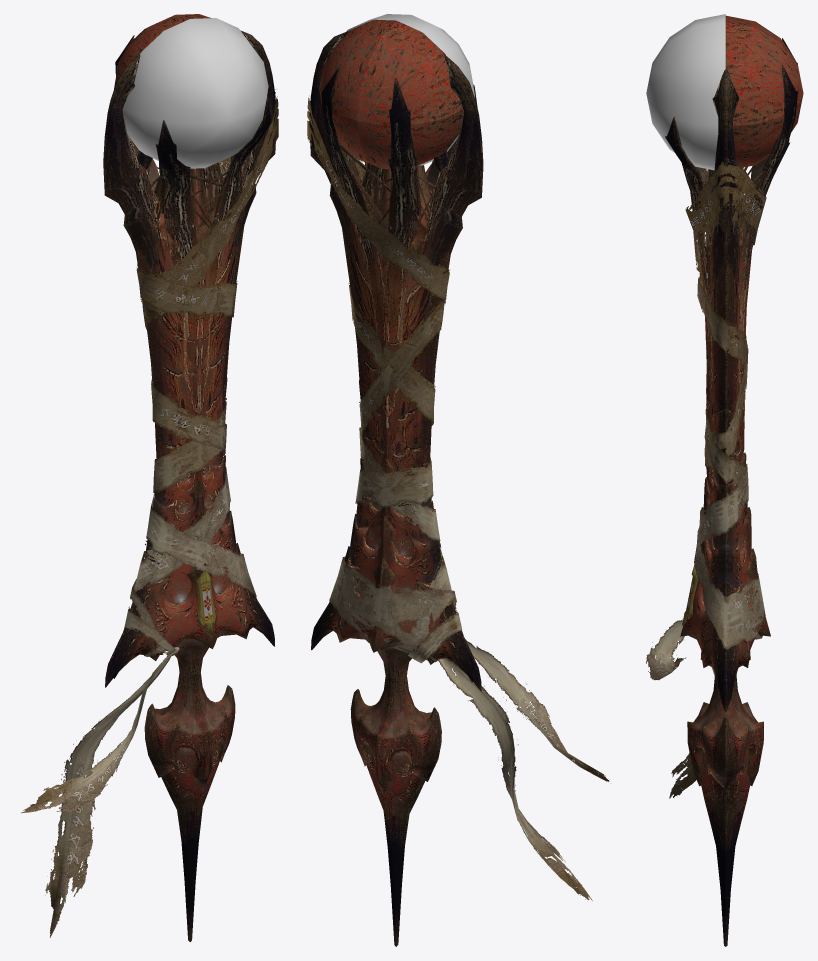
Rendered from caxe025.obj.
The picture shows the model from 3 angles, left to right: view 1: azimuth 30°, elevation 25°; view 2: azimuth 150°, elevation 25°; view 3: azimuth 270°, elevation 25°; orthographic projection.
Visible parts, largest first — view 1: caxe025_010_LOD_1, caxe025_017_LOD_1, caxe025_018_LOD_1, caxe025_004_LOD_1, caxe025_009_LOD_1, caxe025_002_LOD_1, caxe025_008_LOD_1, caxe025_016_LOD_1, caxe025_005_LOD_1, caxe025_007_LOD_1, caxe025_006_LOD_1, caxe025_011_LOD_1 (+3 smaller); view 2: caxe025_010_LOD_1, caxe025_017_LOD_1, caxe025_011_LOD_1, caxe025_004_LOD_1, caxe025_009_LOD_1, caxe025_002_LOD_1, caxe025_008_LOD_1, caxe025_005_LOD_1, caxe025_016_LOD_1, caxe025_006_LOD_1, caxe025_018_LOD_1, caxe025_001_LOD_1 (+2 smaller); view 3: caxe025_017_LOD_1, caxe025_010_LOD_1, caxe025_004_LOD_1, caxe025_018_LOD_1, caxe025_011_LOD_1, caxe025_008_LOD_1, caxe025_009_LOD_1, caxe025_005_LOD_1, caxe025_016_LOD_1, caxe025_006_LOD_1, caxe025_002_LOD_1, caxe025_007_LOD_1 (+4 smaller).
Part boxes in pixels (bbox=[...]): caxe025_010_LOD_1: bbox=[103, 30, 276, 465]; caxe025_017_LOD_1: bbox=[130, 89, 278, 656]; caxe025_018_LOD_1: bbox=[123, 18, 268, 168]; caxe025_004_LOD_1: bbox=[105, 543, 274, 791]; caxe025_009_LOD_1: bbox=[123, 150, 256, 482]; caxe025_002_LOD_1: bbox=[45, 655, 170, 937]; caxe025_008_LOD_1: bbox=[161, 741, 220, 941]; caxe025_016_LOD_1: bbox=[21, 650, 175, 813]; caxe025_005_LOD_1: bbox=[146, 511, 236, 604]; caxe025_007_LOD_1: bbox=[154, 455, 225, 512]; caxe025_006_LOD_1: bbox=[152, 480, 229, 545]; caxe025_011_LOD_1: bbox=[114, 14, 211, 88]; caxe025_010_LOD_1: bbox=[309, 31, 483, 467]; caxe025_017_LOD_1: bbox=[307, 95, 456, 662]; caxe025_011_LOD_1: bbox=[319, 19, 463, 168]; caxe025_004_LOD_1: bbox=[311, 546, 481, 795]; caxe025_009_LOD_1: bbox=[329, 150, 462, 476]; caxe025_002_LOD_1: bbox=[438, 658, 592, 900]; caxe025_008_LOD_1: bbox=[365, 745, 424, 946]; caxe025_005_LOD_1: bbox=[350, 514, 441, 595]; caxe025_016_LOD_1: bbox=[465, 639, 609, 781]; caxe025_006_LOD_1: bbox=[356, 496, 433, 557]; caxe025_018_LOD_1: bbox=[346, 14, 474, 165]; caxe025_001_LOD_1: bbox=[408, 610, 462, 663]; caxe025_017_LOD_1: bbox=[685, 156, 766, 649]; caxe025_010_LOD_1: bbox=[665, 38, 797, 485]; caxe025_004_LOD_1: bbox=[680, 548, 770, 789]; caxe025_018_LOD_1: bbox=[646, 14, 725, 170]; caxe025_011_LOD_1: bbox=[725, 15, 803, 167]; caxe025_008_LOD_1: bbox=[701, 750, 749, 946]; caxe025_009_LOD_1: bbox=[706, 169, 745, 483]; caxe025_005_LOD_1: bbox=[700, 507, 751, 589]; caxe025_016_LOD_1: bbox=[646, 619, 686, 680]; caxe025_006_LOD_1: bbox=[703, 477, 747, 551]; caxe025_002_LOD_1: bbox=[669, 667, 714, 798]; caxe025_007_LOD_1: bbox=[706, 452, 746, 503].
Size of the model in its own units: 92.06 by 283 by 43.88.
